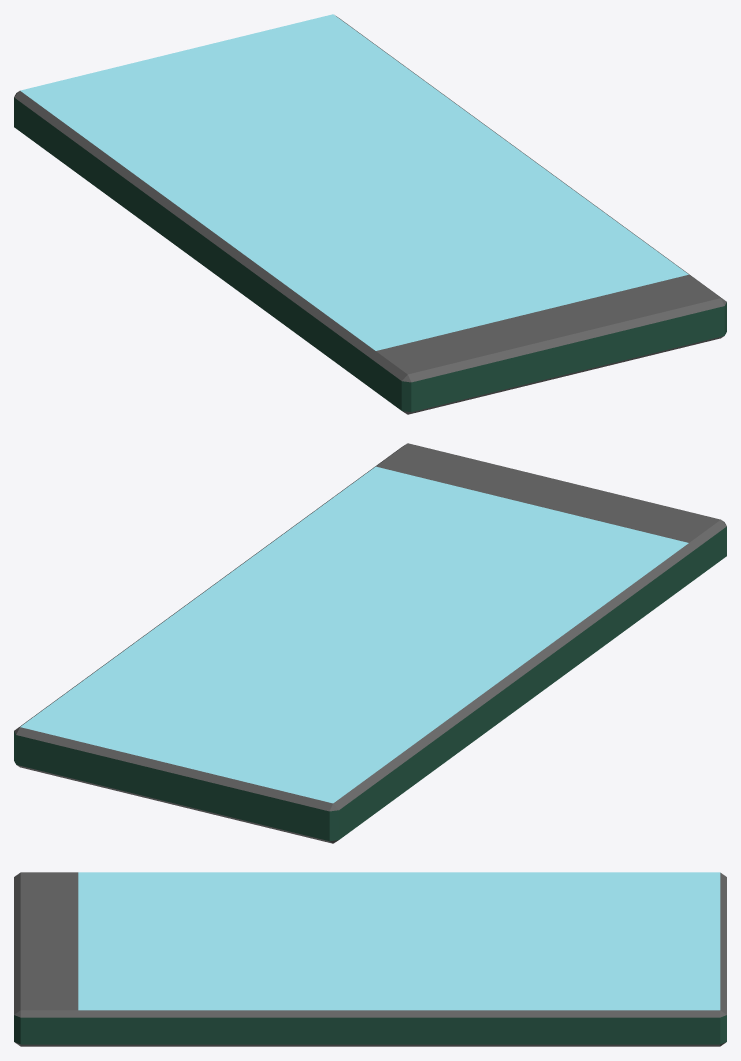
The model's file is Phone02.fbx.
3 renders of one model, top to bottom at view 1: azimuth 30°, elevation 25°; view 2: azimuth 150°, elevation 25°; view 3: azimuth 270°, elevation 25°, orthographic. The views are drawn at different scales.
Visible parts, largest first — view 1: Phone02; view 2: Phone02; view 3: Phone02.
Boxes of the visible parts, left/top/right/bottom form: Phone02: left=14, top=14, right=726, bottom=414; Phone02: left=14, top=443, right=726, bottom=843; Phone02: left=14, top=872, right=726, bottom=1046.
Bounding box in the file's own units: 0.076 × 0.16 × 0.009.
